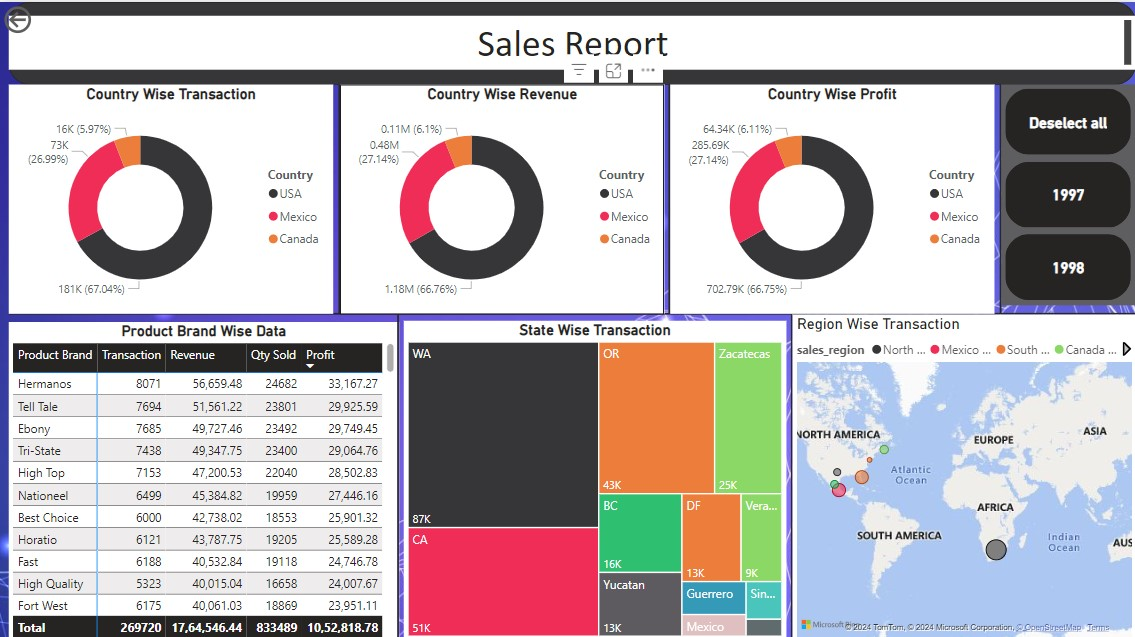

The dashboard page shown, as its layout file describes it:
{"tool":"powerbi","page":{"name":"DB2","canvas":[1280,720],"ordinal":1},"visuals":[{"type":"shape","box":[10,0,1270.1,93.3],"z":0},{"type":"textbox","box":[10,16.2,1270.1,61],"z":1000},{"type":"shape","box":[9.7,342.3,1270.3,18.1],"z":2000},{"type":"donutChart","title":"Country Wise Transaction","fields":{"Category":["d_Customers.customer_country"],"Y":["Measure.M_Total_Transaction"]},"box":[9.7,93.2,365.9,258.8],"z":3000},{"type":"shape","box":[375.7,93.2,12.5,258.8],"z":4000},{"type":"donutChart","title":"Country Wise Revenue","fields":{"Category":["d_Customers.customer_country"],"Y":["Measure.M_Total_Revenue"]},"box":[382.6,93.2,365.9,258.8],"z":5000},{"type":"donutChart","title":"Country Wise Profit","fields":{"Category":["d_Customers.customer_country"],"Y":["Measure.M_Totol_Profit"]},"box":[755.5,93.2,365.9,258.8],"z":6000},{"type":"shape","box":[748.5,93.2,12.5,258.8],"z":7000},{"type":"shape","box":[1121.4,93.2,12.5,258.8],"z":8000},{"type":"actionButton","box":[0,0,100,40],"z":9000},{"type":"advancedSlicerVisual","fields":{"Values":["d_Calendar.Year"]},"box":[1128.3,93.2,151.7,249],"z":10000},{"type":"pivotTable","title":"Product Brand Wise Data","fields":{"Rows":["d_Products.product_brand"],"Values":["Measure.M_Total_Transaction","Measure.M_Total_Revenue","Measure.m_quantity_sold","Measure.M_Totol_Profit"]},"box":[9.7,360.3,439.7,360.3],"z":11000},{"type":"shape","box":[442.4,352,12.5,368.7],"z":12000},{"type":"treemap","title":"State Wise Transaction","fields":{"Group":["d_Customers.customer_state_province"],"Values":["Measure.M_Total_Transaction"]},"box":[454.9,359.2,431,360.6],"z":13000},{"type":"shape","box":[886.3,352,12.5,368.7],"z":14000},{"type":"map","title":"Region Wise Transaction","fields":{"Category":["d_Regions.sales_region"],"Size":["Measure.M_Total_Transaction"],"Series":["d_Regions.sales_region"]},"box":[893.2,352,386.8,368.7],"z":15000}]}

Visuals, with their boxes in screenshot pixels (x1, y1, x2, y2):
shape: BBox(15, 0, 1125, 82)
textbox: BBox(15, 14, 1125, 68)
shape: BBox(14, 299, 1125, 315)
"Country Wise Transaction" donutChart: BBox(14, 81, 334, 308)
shape: BBox(334, 81, 345, 308)
"Country Wise Revenue" donutChart: BBox(340, 81, 660, 308)
"Country Wise Profit" donutChart: BBox(667, 81, 987, 308)
shape: BBox(660, 81, 671, 308)
shape: BBox(987, 81, 997, 308)
actionButton: BBox(6, 0, 93, 35)
advancedSlicerVisual - d_Calendar.Year: BBox(993, 81, 1125, 299)
"Product Brand Wise Data" pivotTable: BBox(14, 315, 399, 630)
shape: BBox(393, 308, 404, 630)
"State Wise Transaction" treemap: BBox(404, 314, 781, 629)
shape: BBox(781, 308, 792, 630)
"Region Wise Transaction" map: BBox(787, 308, 1125, 630)
